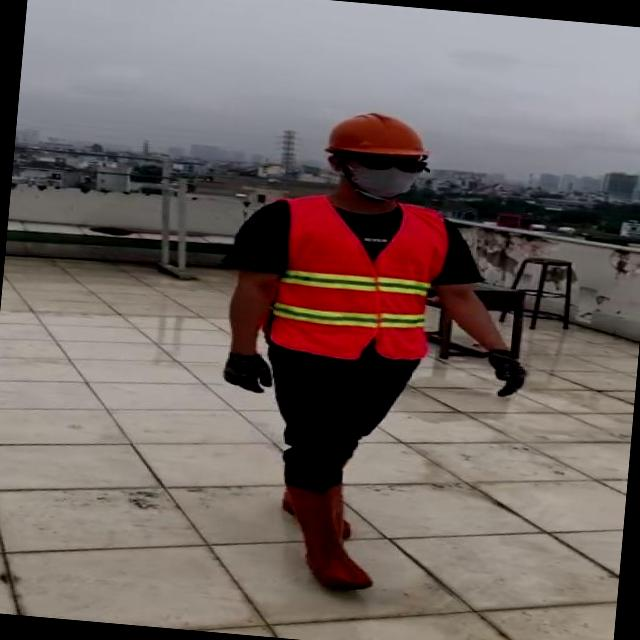boots: (275, 480, 380, 594), (331, 456, 349, 479)
gloves: (482, 341, 532, 399), (218, 352, 277, 390)
helmet: (315, 104, 432, 163)
vest: (266, 192, 450, 366)
